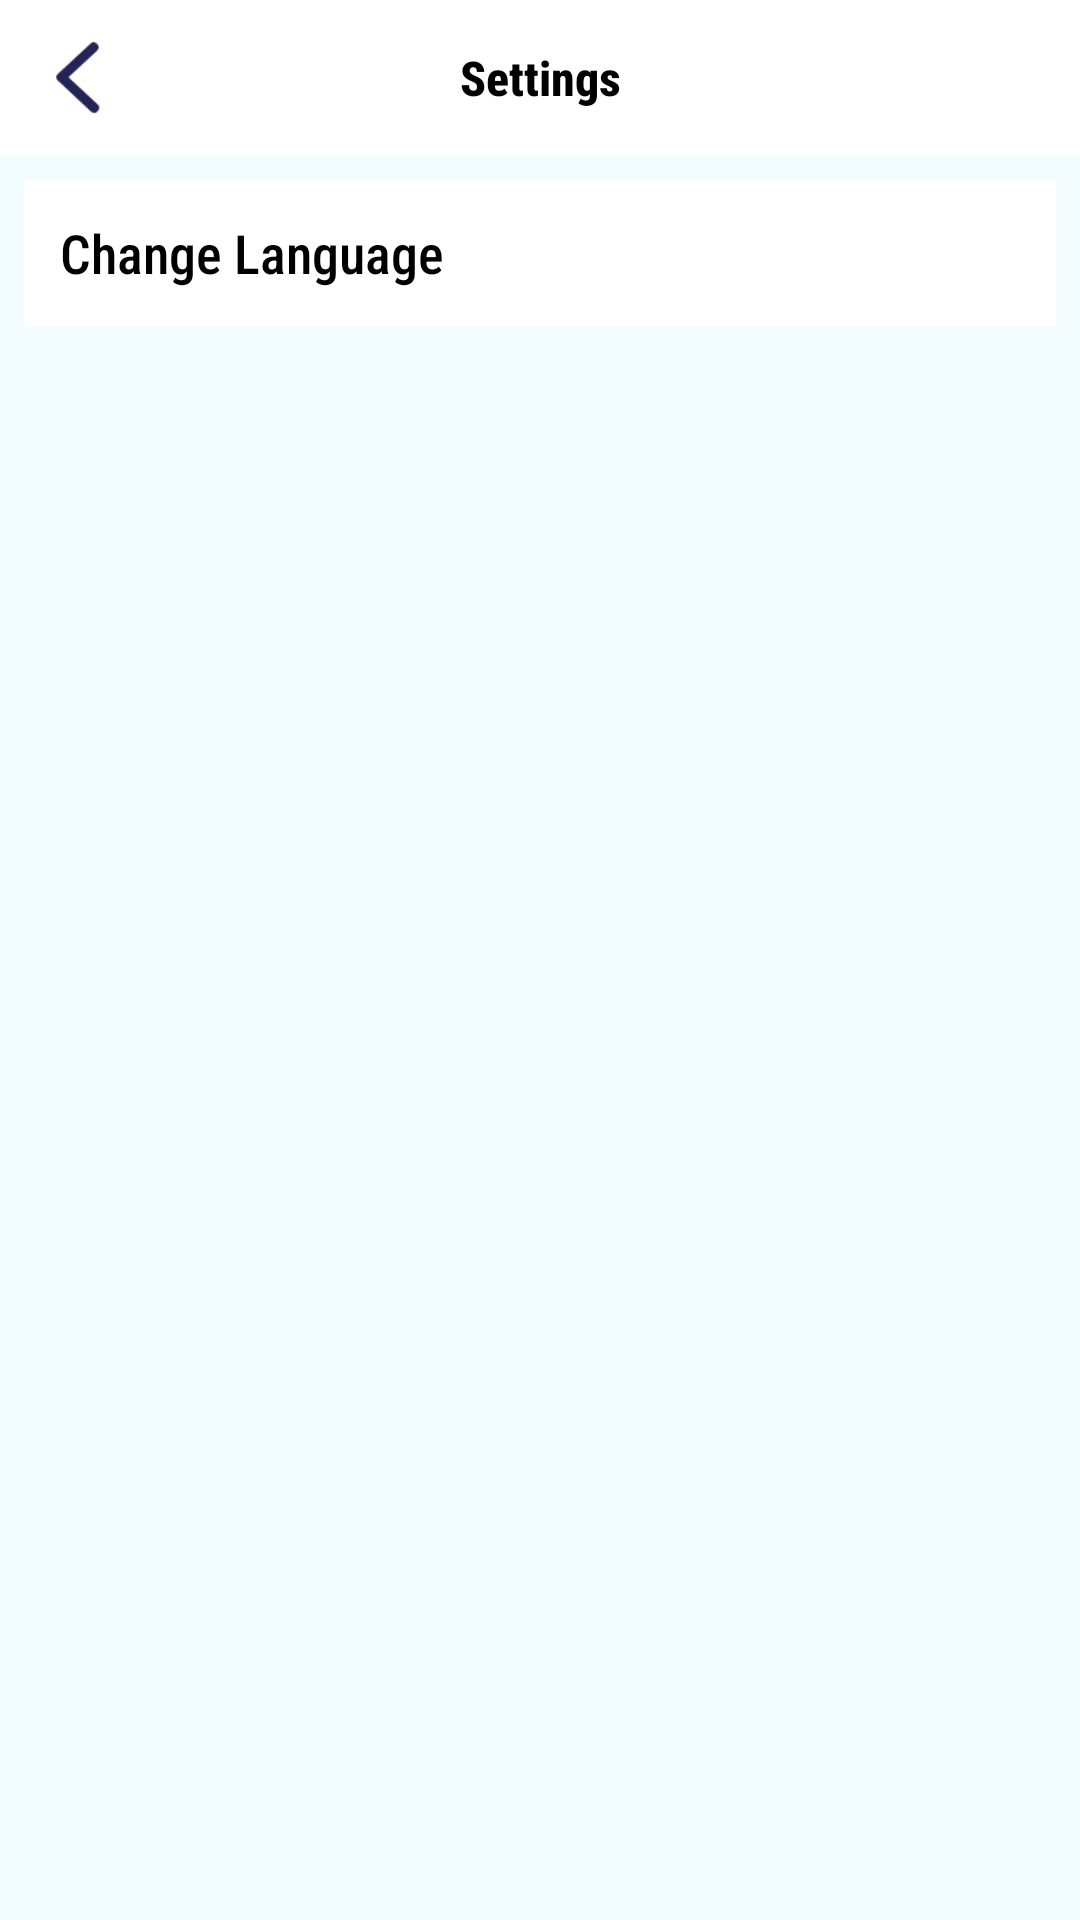

Screen size 1080px×1920px. Icon name, then its box in pixels as detection(x1, y1, x2, y2):
back: detection(56, 42, 100, 114)
